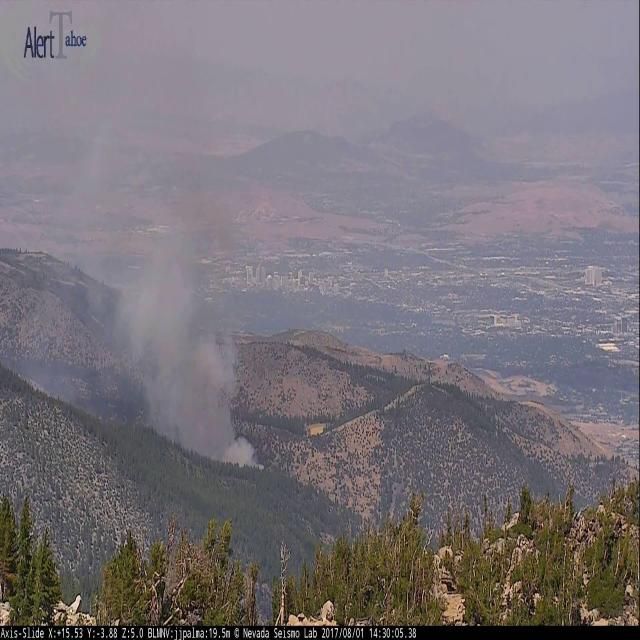smoke: (55, 79, 268, 496)
